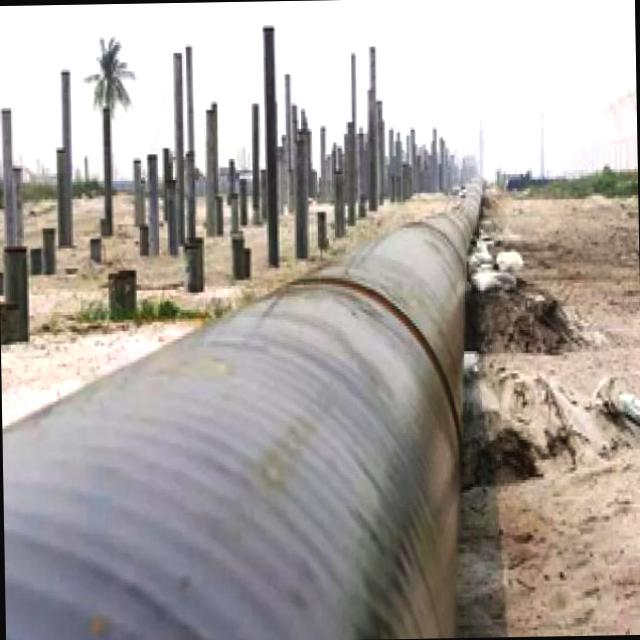gas: (2, 191, 477, 640)
